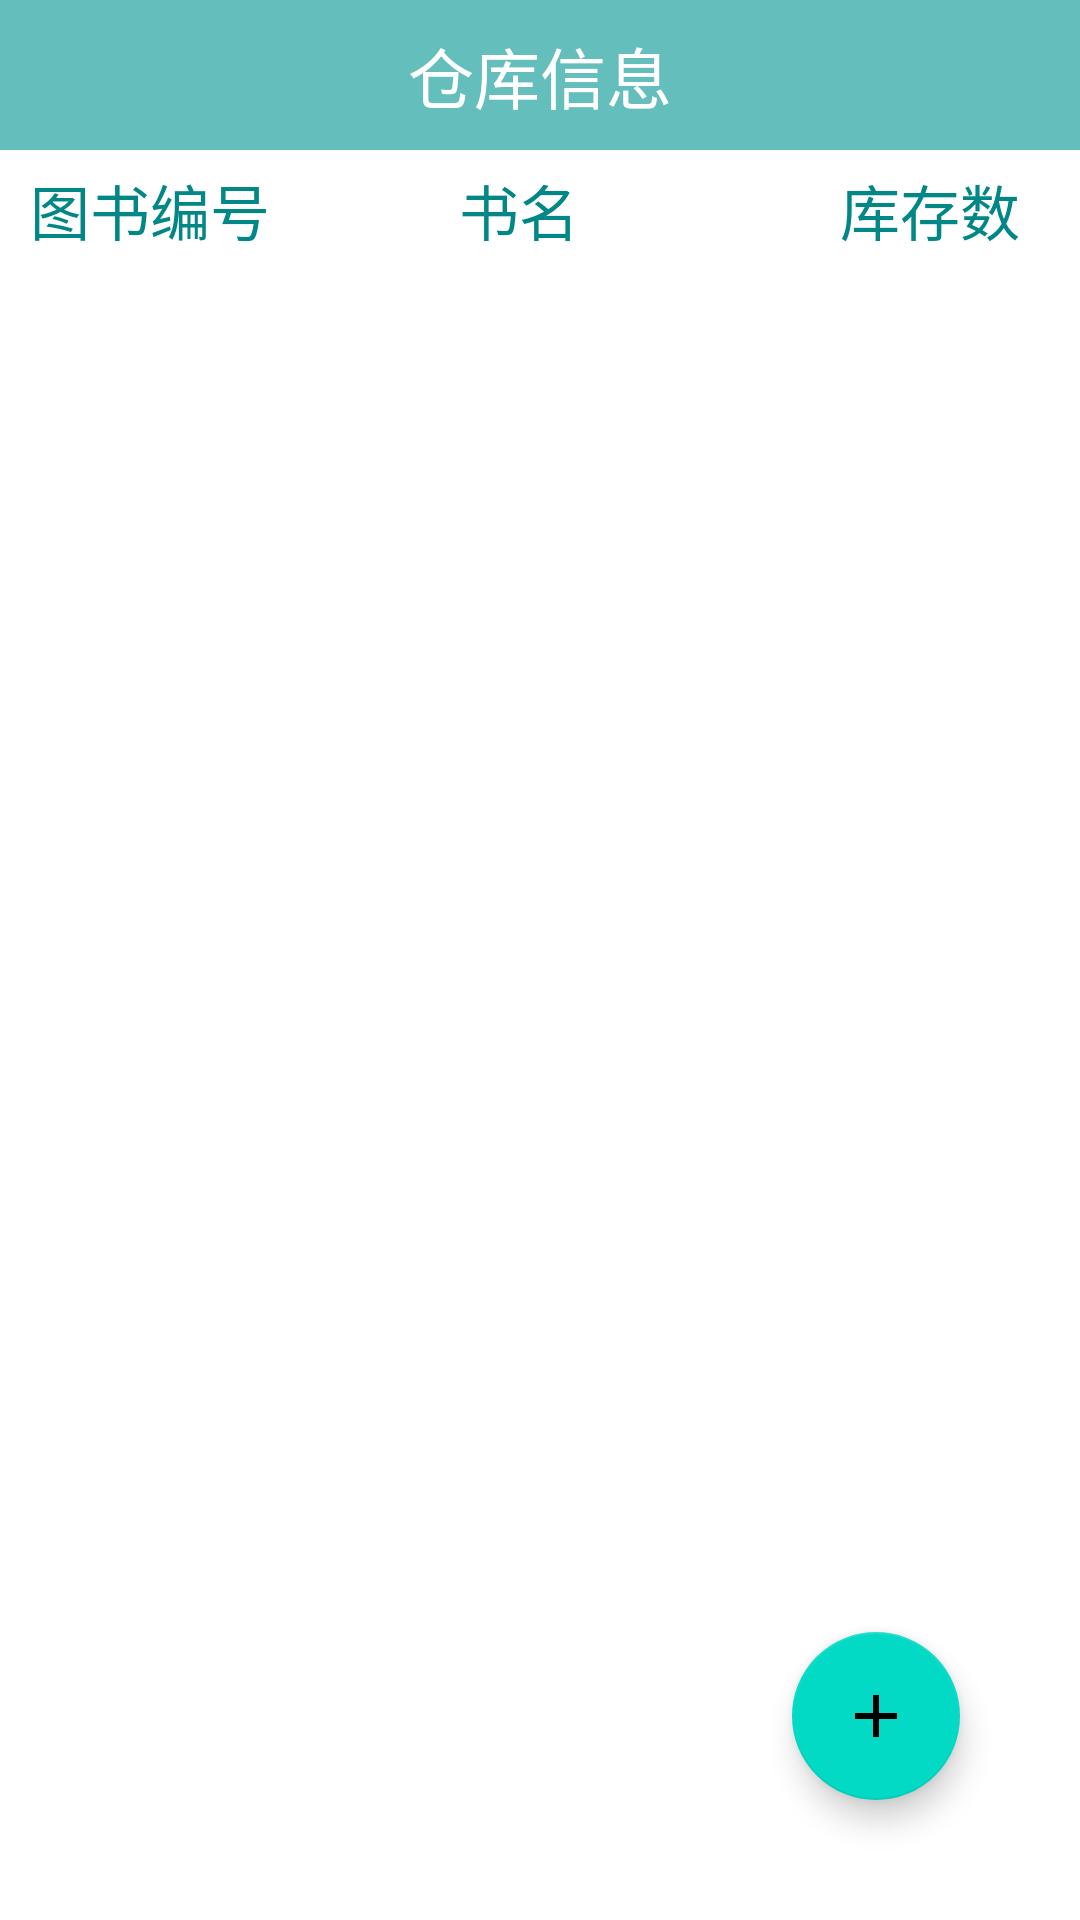

Icon click points for this 1080×1920 phone screenshot, format point (x, y):
add: point (876, 1716)
